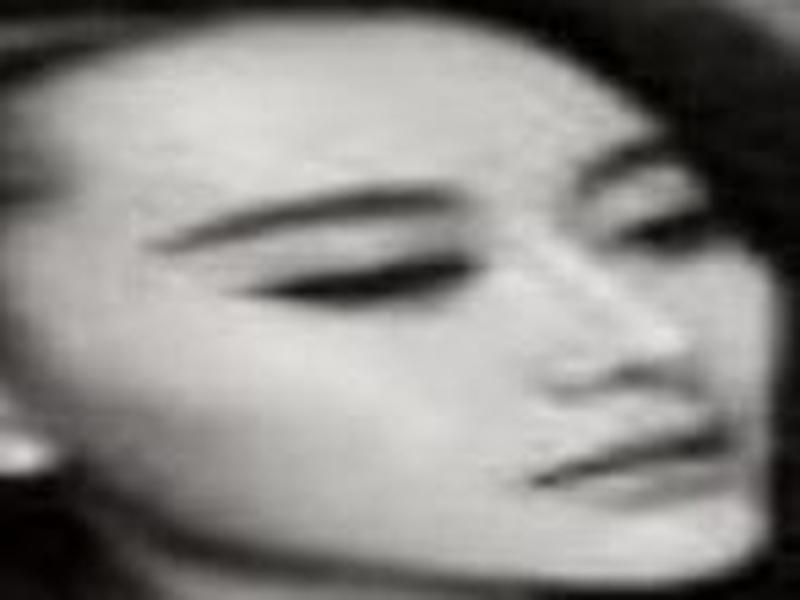without_mask: (29, 27, 768, 582)
